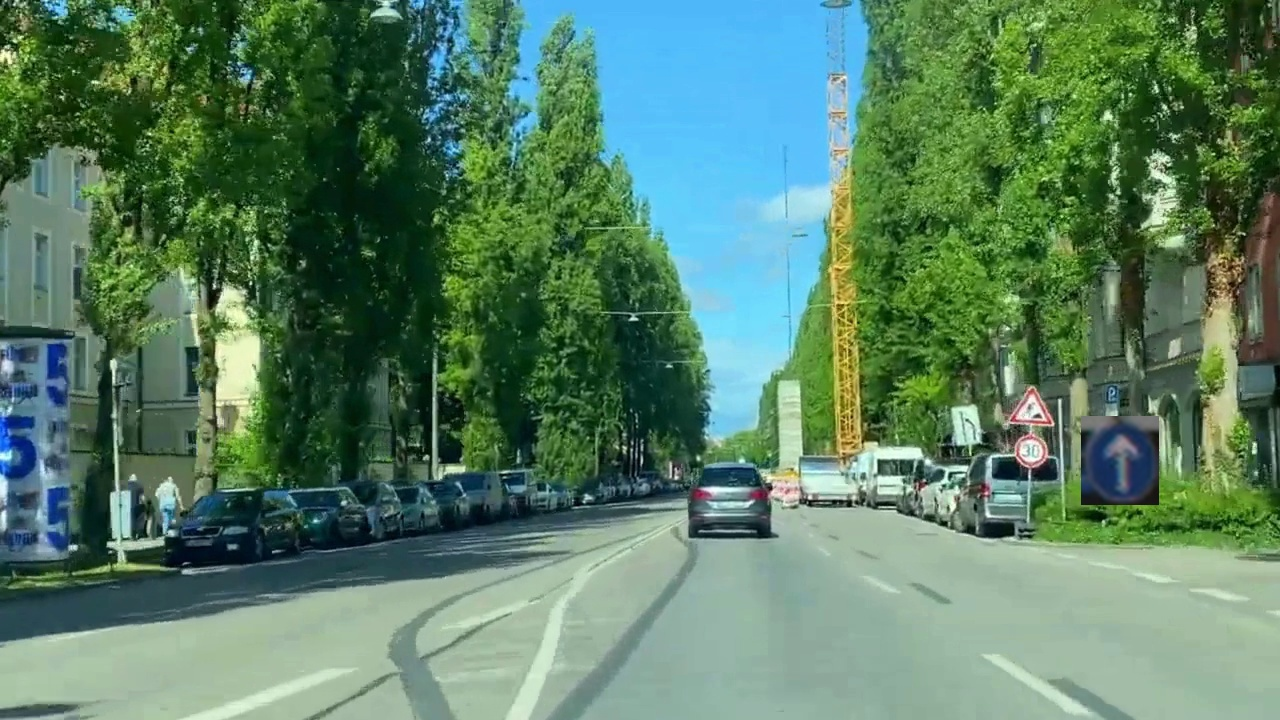Ahead only: (1081, 416, 1159, 505)
